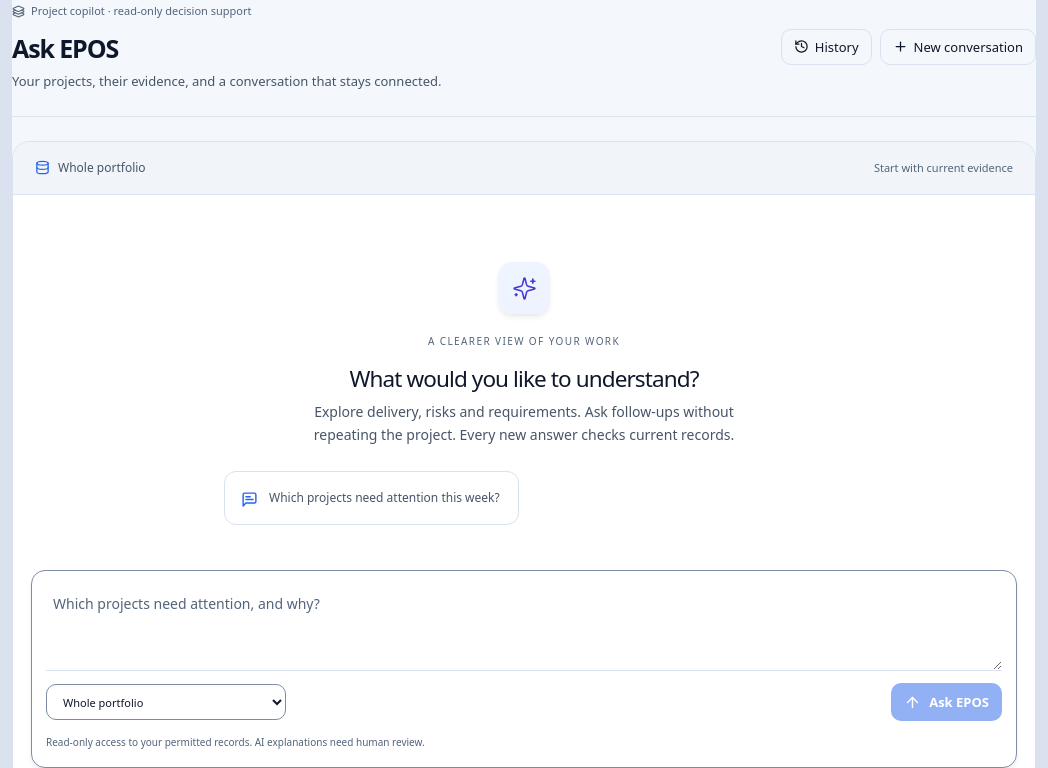
Test: AskEposPage › keeps the conversation so earlier questions stay visible
The width and height of the screenshot is (1048, 768).
Type "first question" into the text box named "Ask a question" at x=524, y=627, box [46,585,1002,670]
Then press Enter
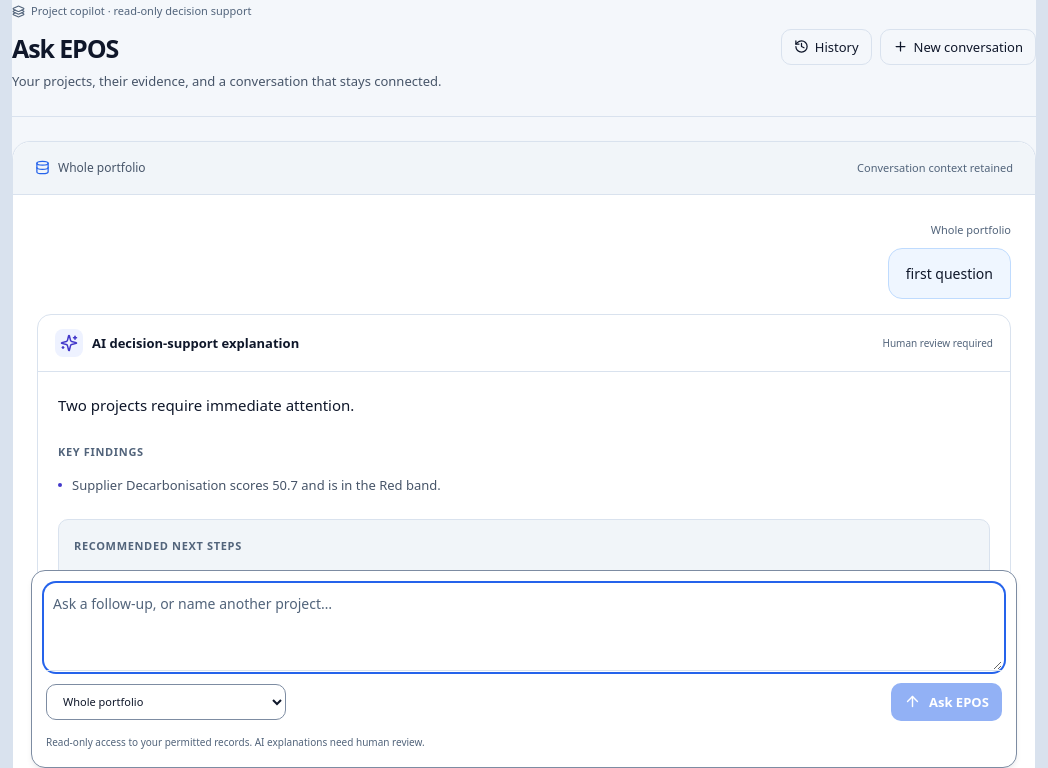
expect the text "Two projects require immediate attention." is shown: met, box [58,395,354,415]
Type "second question" into the text box named "Ask a question" at x=524, y=627, box [46,585,1002,670]
Then press Enter
(page scrolled)
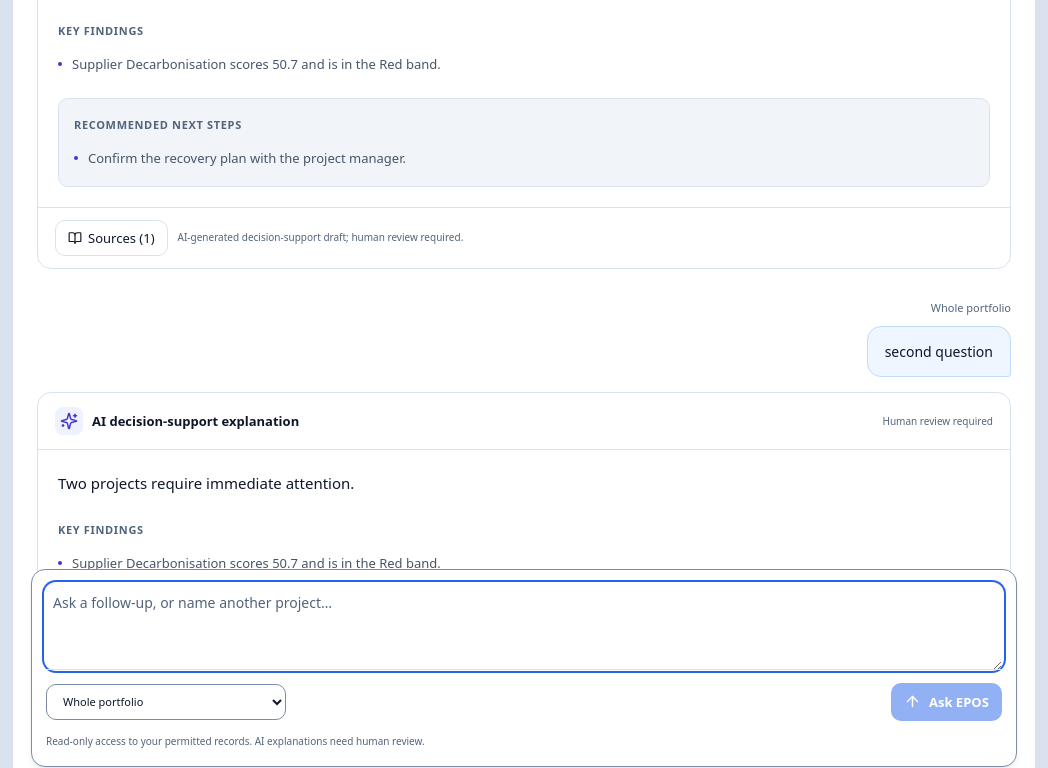
expect the text "second question" is shown: met, box [867,326,1011,377]
